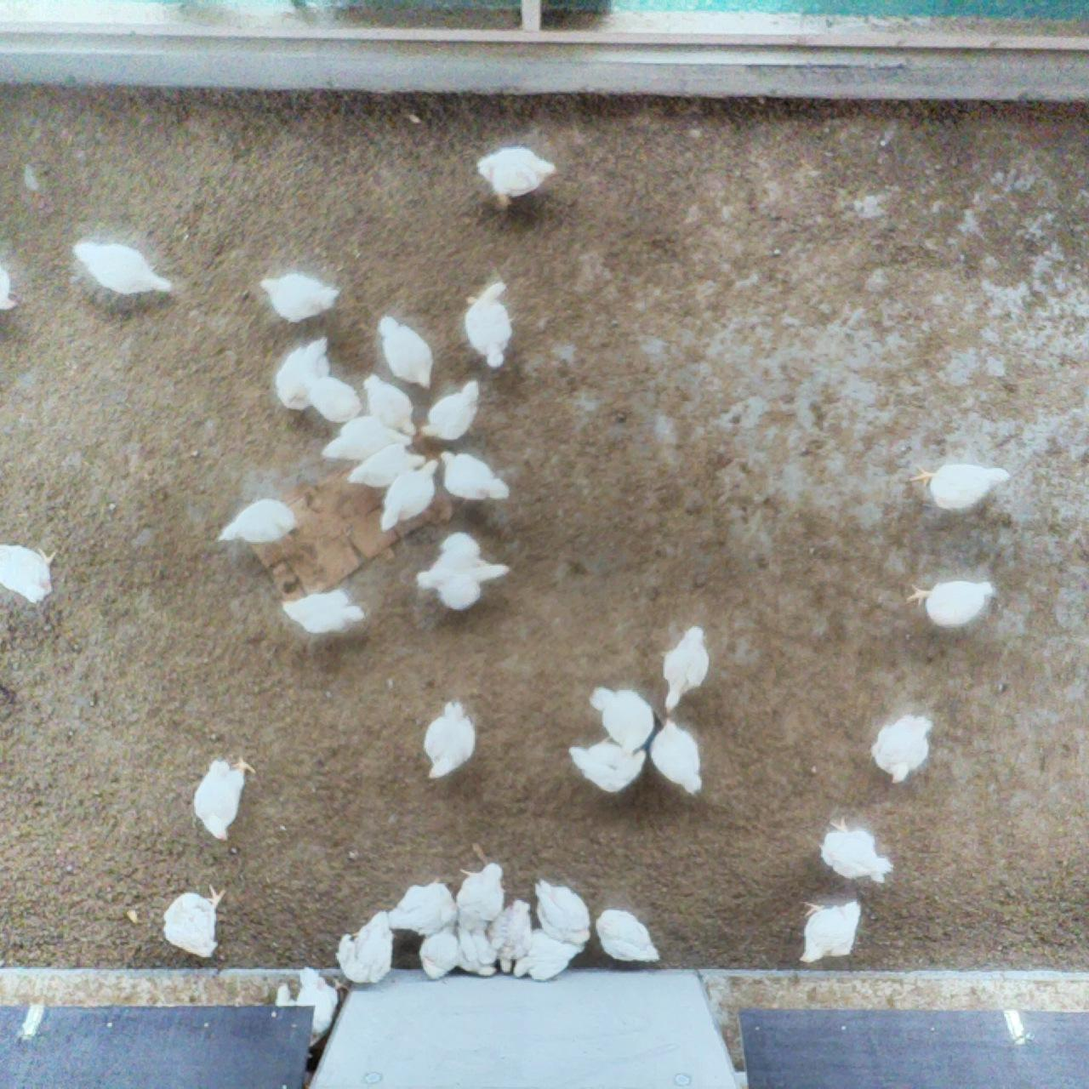chicken: (412, 531, 512, 612), (70, 237, 177, 304), (188, 750, 262, 846), (273, 964, 351, 1049), (812, 814, 898, 890), (473, 141, 560, 214), (254, 269, 345, 329), (464, 277, 518, 378), (910, 459, 1012, 512), (588, 680, 657, 757), (421, 694, 480, 784), (868, 710, 935, 788), (320, 413, 416, 467), (162, 879, 225, 961), (451, 854, 511, 938), (794, 898, 865, 968), (278, 586, 370, 639), (376, 457, 440, 532), (565, 737, 646, 796), (659, 622, 712, 712), (647, 715, 705, 796), (906, 579, 996, 631), (334, 907, 393, 985), (276, 338, 334, 417), (375, 312, 436, 385), (380, 881, 458, 938), (416, 376, 485, 440), (590, 902, 659, 964), (216, 499, 301, 548), (350, 442, 433, 491), (437, 446, 508, 503), (533, 878, 590, 946), (364, 370, 421, 437), (487, 895, 531, 981), (516, 930, 588, 982), (0, 539, 57, 602), (297, 372, 362, 425), (415, 921, 467, 983), (448, 911, 499, 973), (0, 263, 22, 313)
